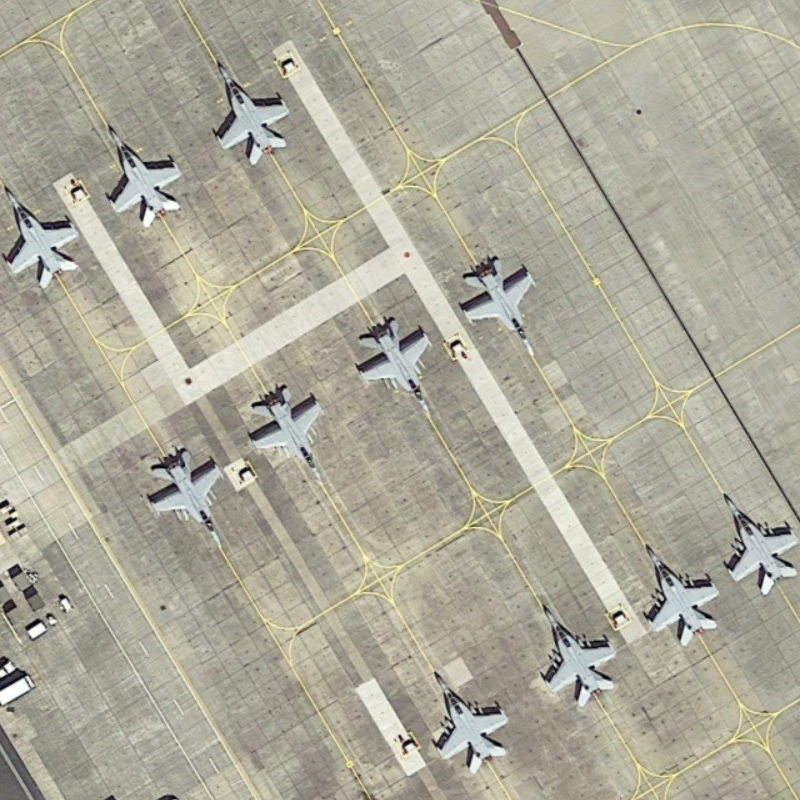A16: (418, 654, 516, 778), (204, 48, 304, 169), (533, 590, 628, 713), (349, 300, 442, 421), (636, 536, 726, 657), (138, 438, 230, 556), (716, 479, 800, 606), (98, 118, 187, 235), (455, 246, 547, 358), (1, 176, 87, 294), (245, 375, 327, 488)
